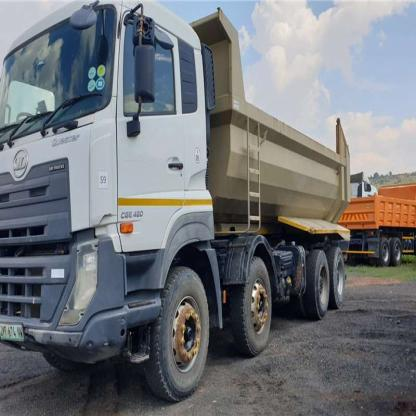dump_truck: (5, 3, 351, 404)
